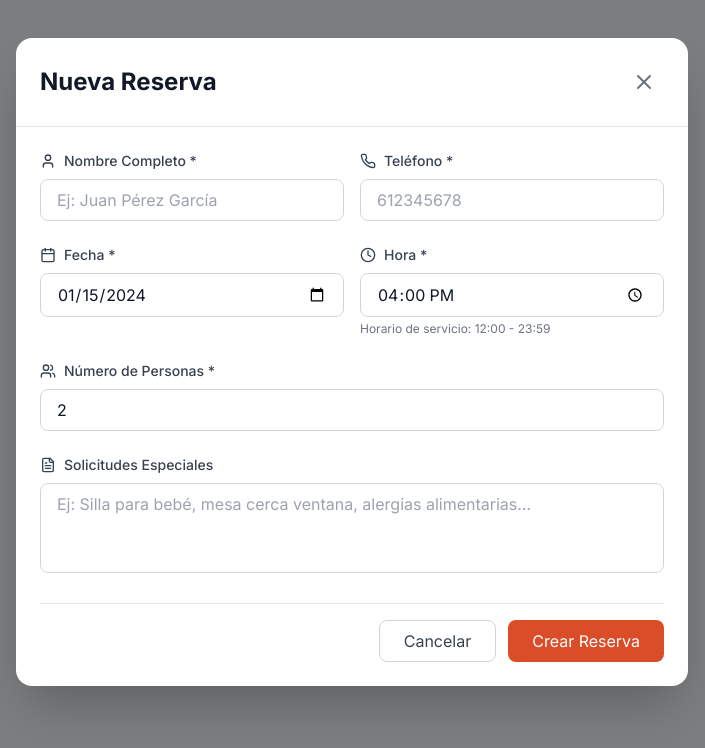
Scenario: ReservaForm Component › Nombre (Name) Validation › should reject names shorter than 2 characters
Type "A" into the field labelled "Nombre Completo *".
click(192, 200); type("A")  # box [40,179,344,221]
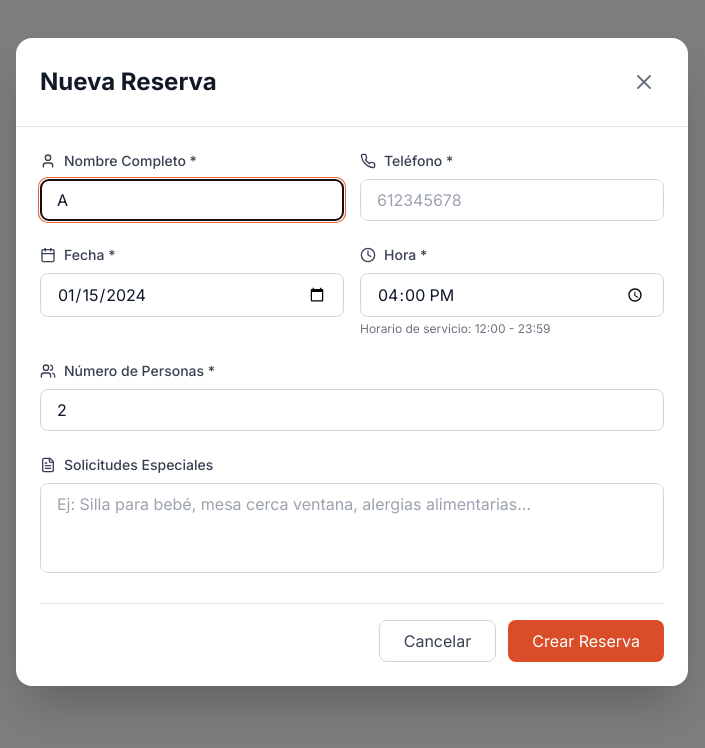
Click the button "Crear Reserva".
click(586, 641)  # box [508,620,664,662]
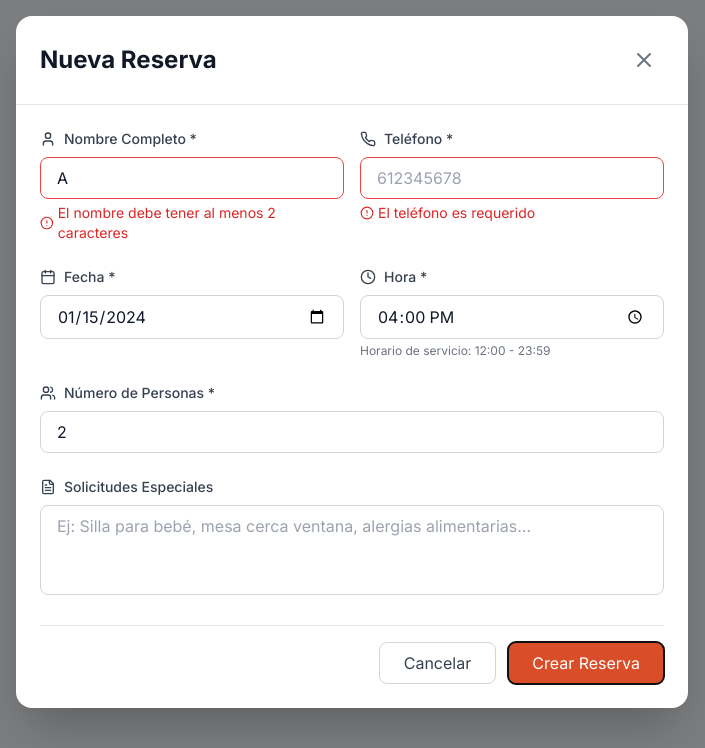
Expected: the text "El nombre debe tener al menos 2 caracteres" is shown, [58,204,276,241]
